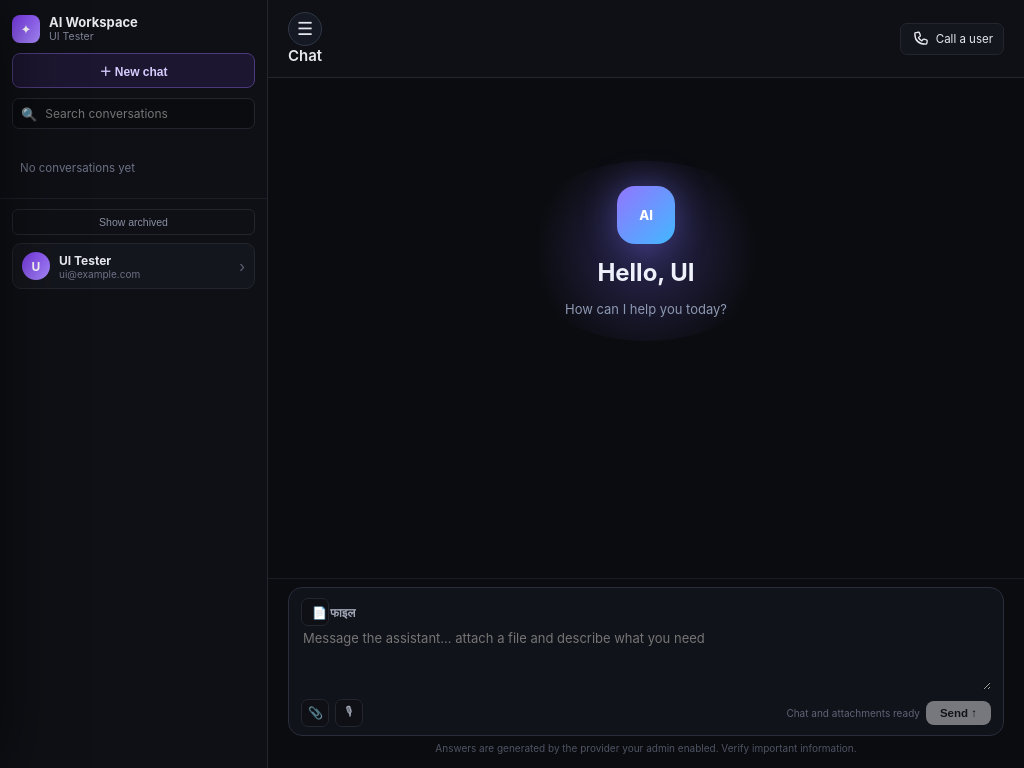
Test: Phase 1-7 UI › renders the compact chat workspace with the three-line features menu
Expected: the text box with placeholder "Message the assistant" is shown, [301,626,991,690]
Step 1. Click the button named "Open chat features" → click(305, 29), box [288,12,322,46]
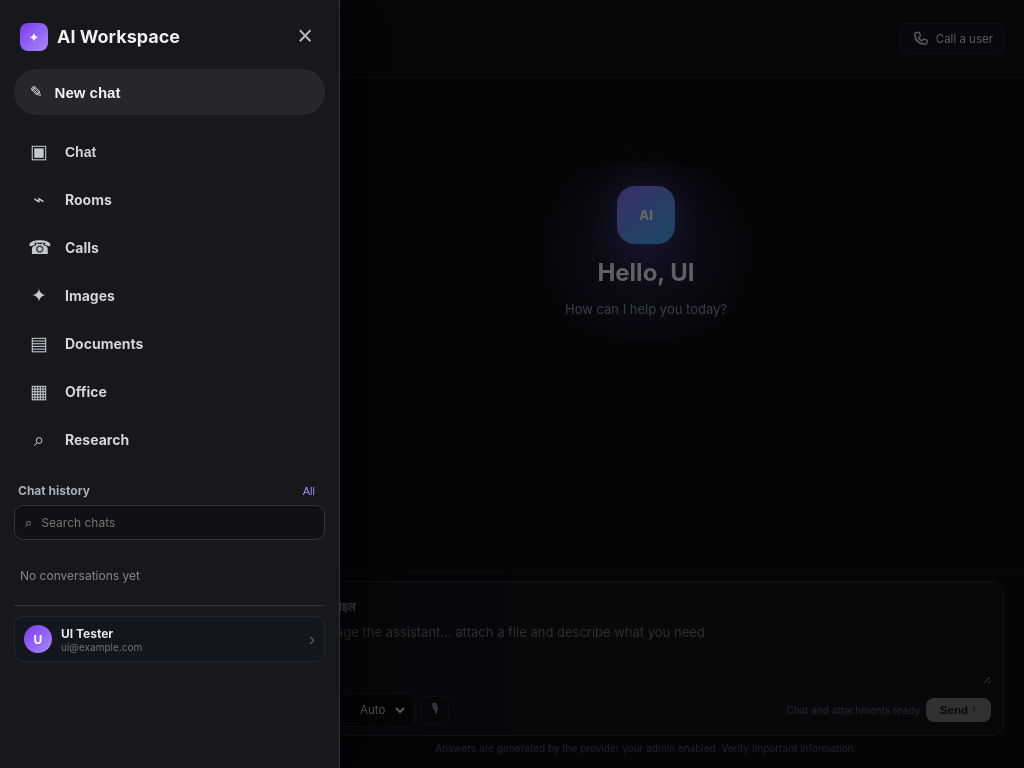
Now the link "✦ Images" is shown, box [31,284,115,307]
Now the link "▤ Documents" is shown, box [30,332,143,355]
